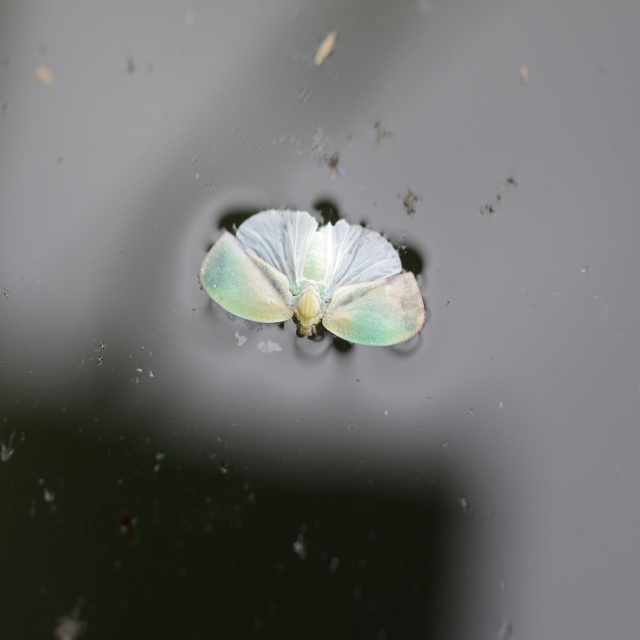Butterfly: (184, 199, 422, 368)
